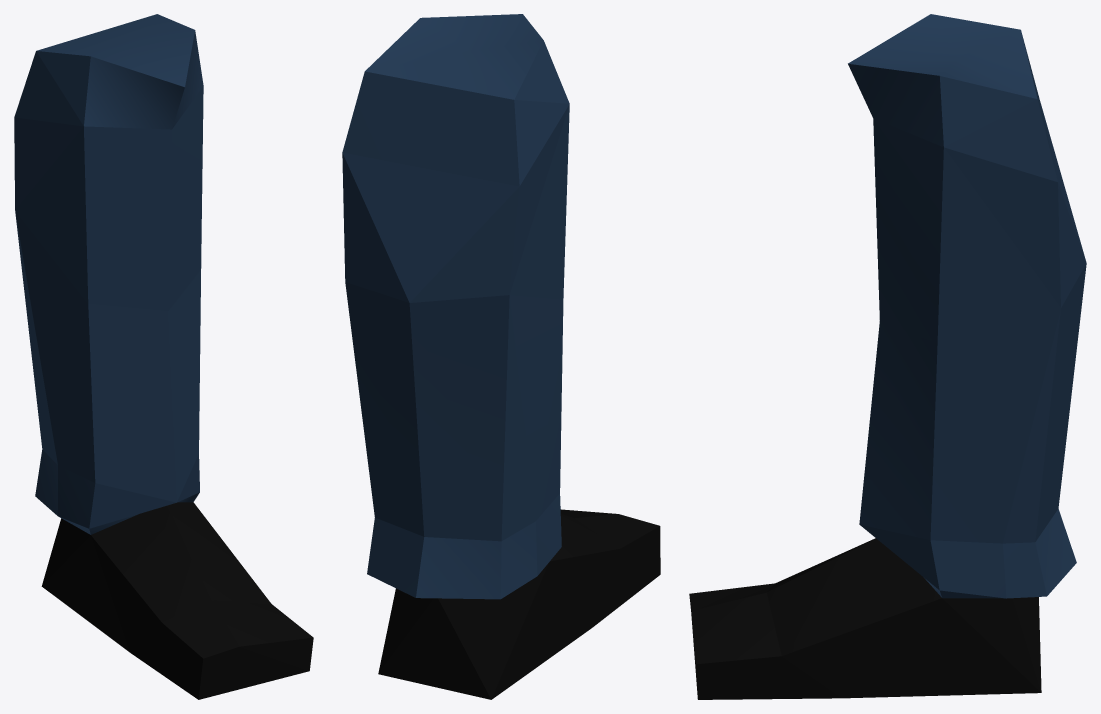
Rendered from Leg_L_Cop.glb.
3 views of the same model, side by side, from view 1: azimuth 30°, elevation 25°; view 2: azimuth 150°, elevation 25°; view 3: azimuth 270°, elevation 25° (orthographic). The views are drawn at different scales.
Visible parts, largest first — view 1: Knee_L_Cop; view 2: Knee_L_Cop; view 3: Knee_L_Cop.
Boxes of the visible parts, box(x1,y1,x2,y2) form: Knee_L_Cop: box(14, 14, 313, 699); Knee_L_Cop: box(342, 14, 660, 699); Knee_L_Cop: box(689, 14, 1086, 699).
Size of the model in its own units: 0.1256 by 0.443 by 0.2554.
1 material, 1 textured.
